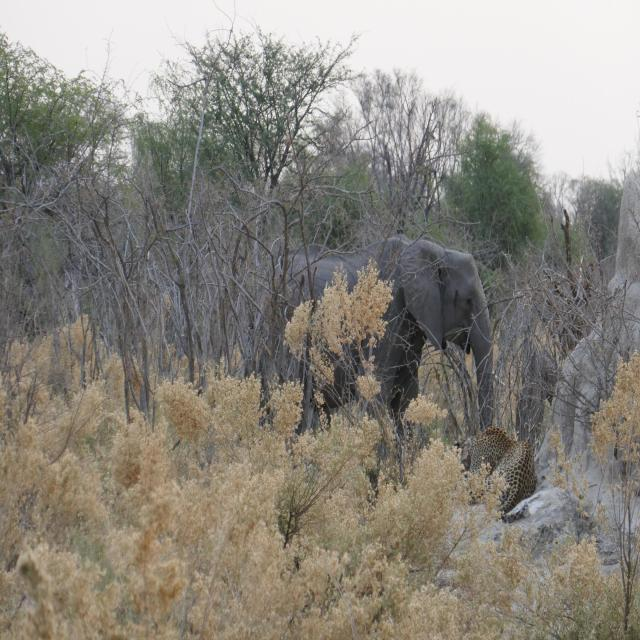Leopard: (460, 422, 535, 526)
